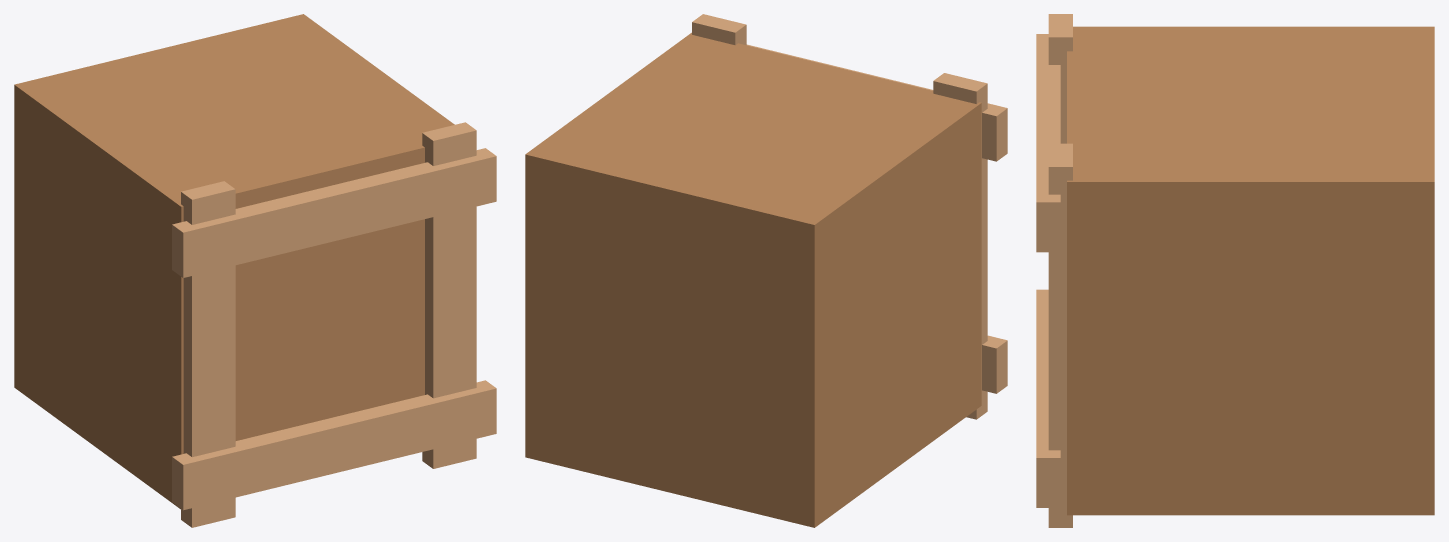
The model's file is wooden_crate.glb.
3 views of the same model, side by side, from view 1: azimuth 30°, elevation 25°; view 2: azimuth 150°, elevation 25°; view 3: azimuth 270°, elevation 25° (orthographic). The views are drawn at different scales.
Parts seen in each view (by area): view 1: wooden_crate; view 2: wooden_crate; view 3: wooden_crate.
Part boxes in pixels (bbox=[...]): wooden_crate: bbox=[14, 14, 496, 527]; wooden_crate: bbox=[525, 14, 1007, 527]; wooden_crate: bbox=[1036, 14, 1434, 527].
Bounding box in the file's own units: 0.65 × 0.65 × 0.65.
